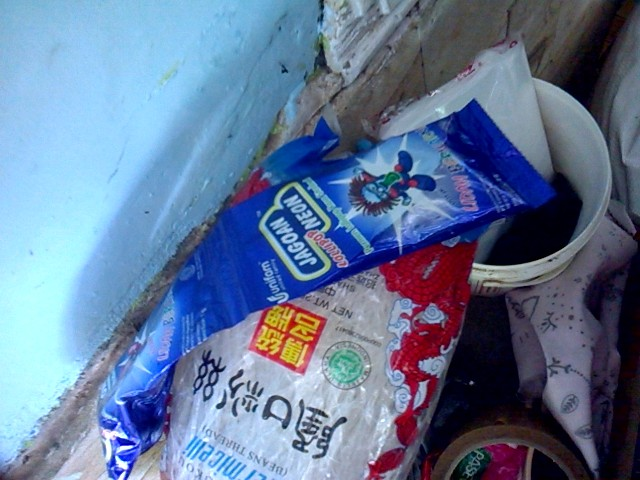jagoan neon: (211, 99, 555, 318)
